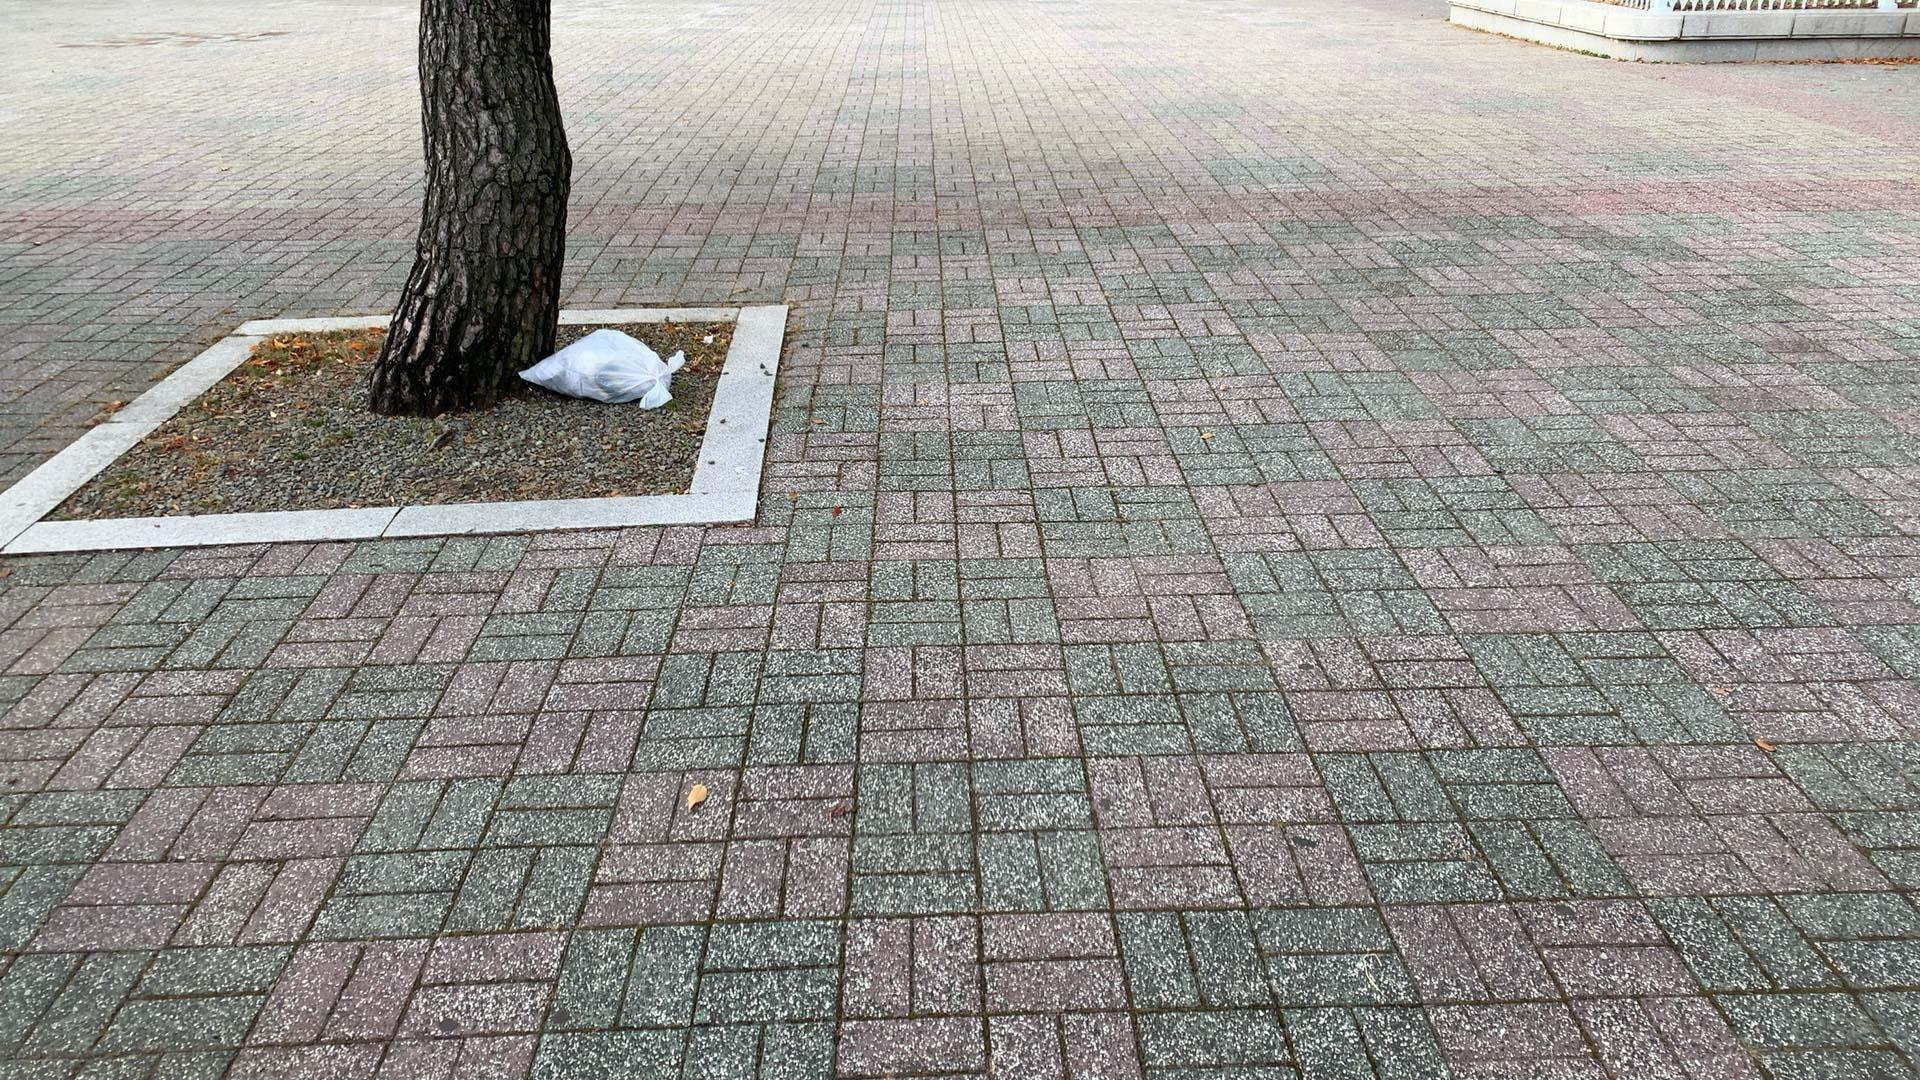white_bag: (505, 314, 698, 426)
